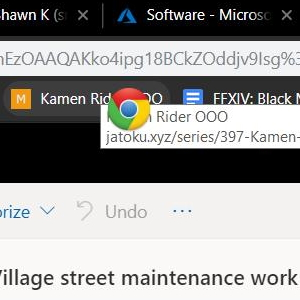chrome: (108, 87, 151, 130)
